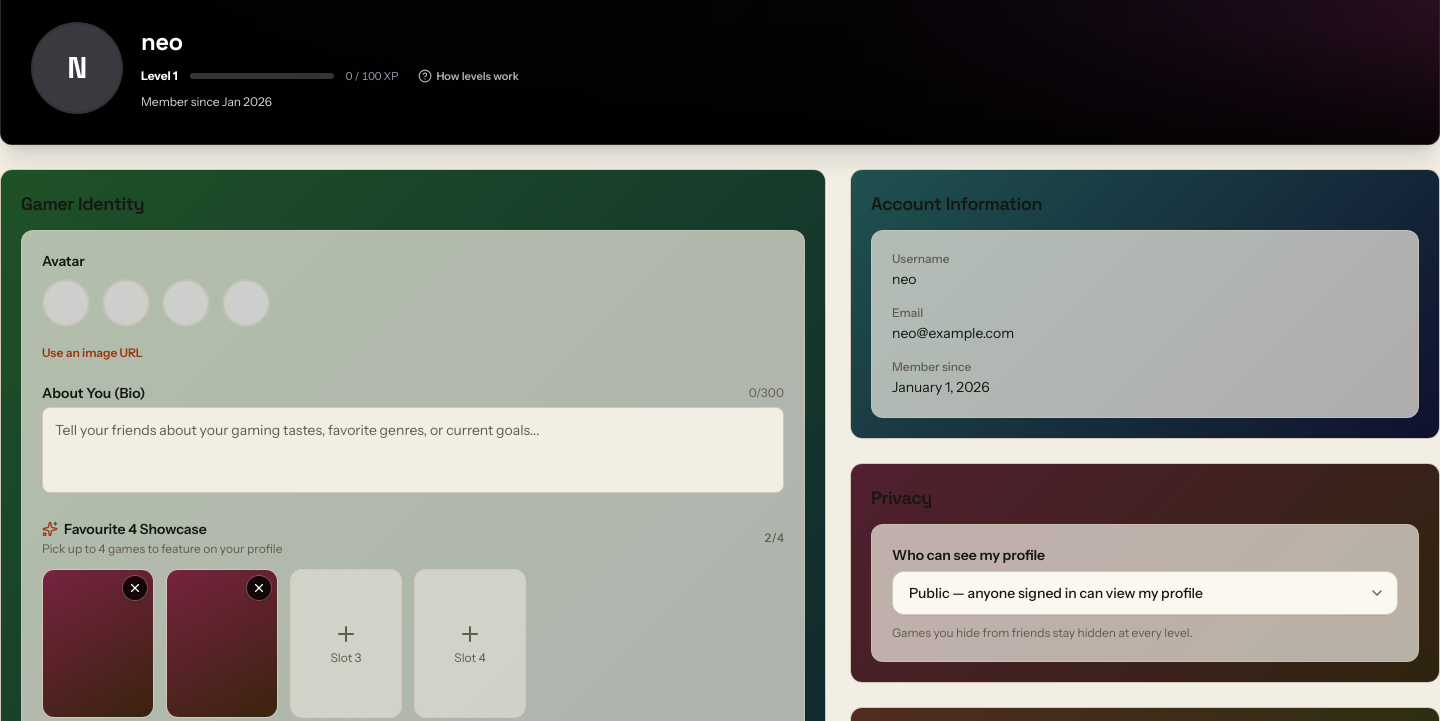
it: Profile: Favourite 4 editor, keyboard and safety › typing in the bio is an unsaved change too
Type "Hello" into the text box labelled "About You (Bio)" at x=413, y=450, box [42,407,784,493]
(page scrolled)
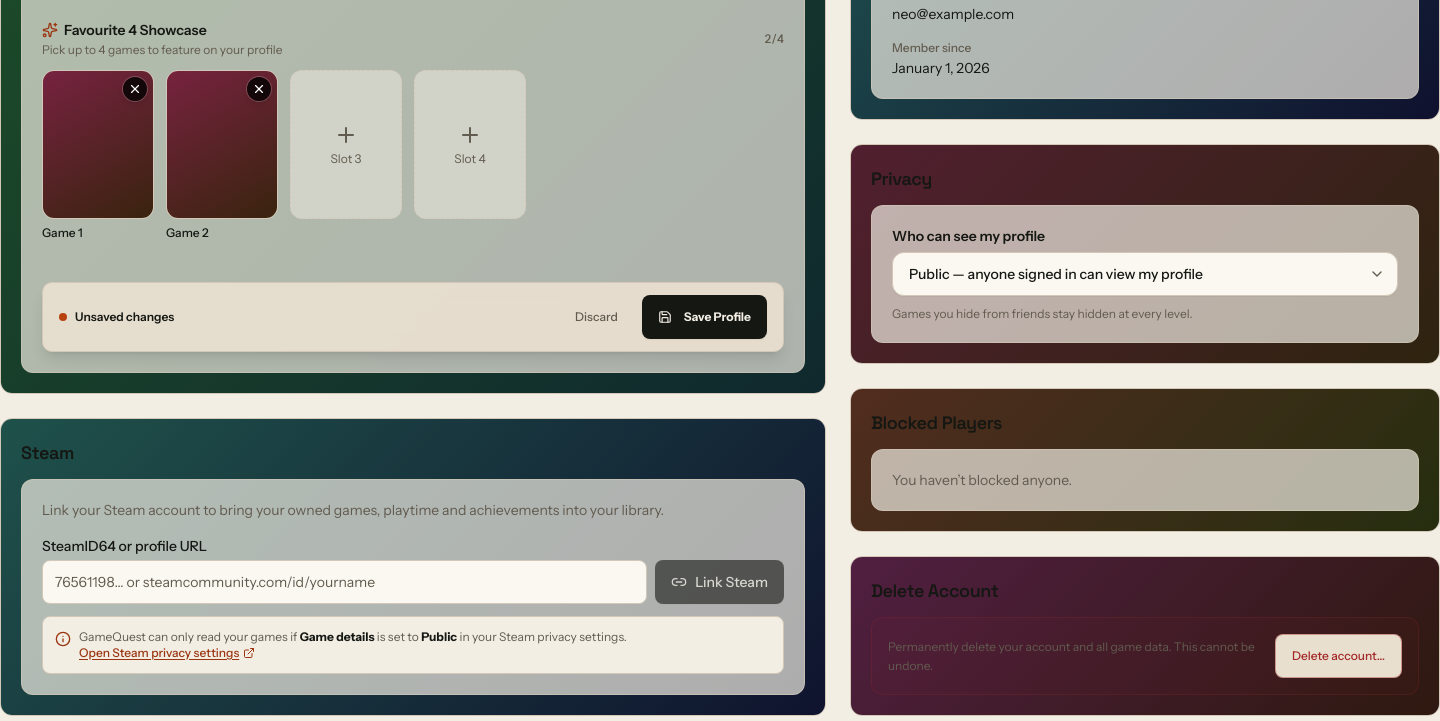
Result: the text "Unsaved changes" is shown at [59,309,174,325]
